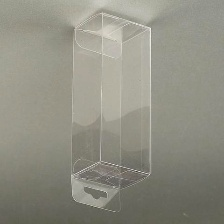plastic_box: (58, 6, 160, 219)
